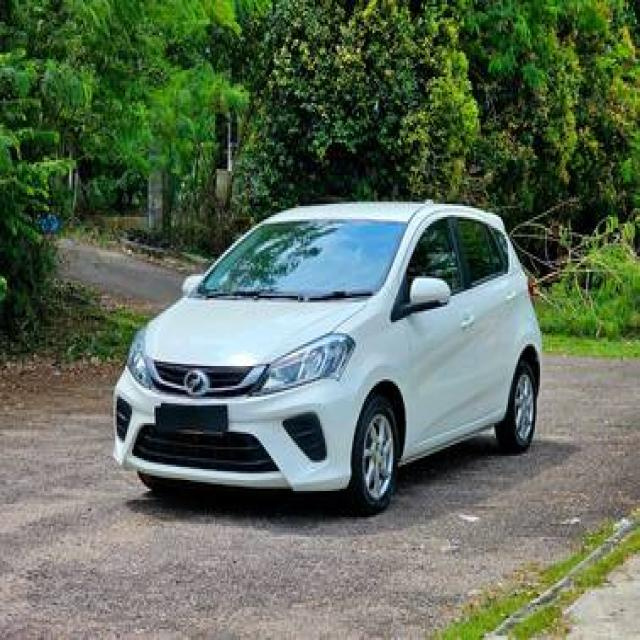PeroduaMyvi: (110, 195, 544, 515)
